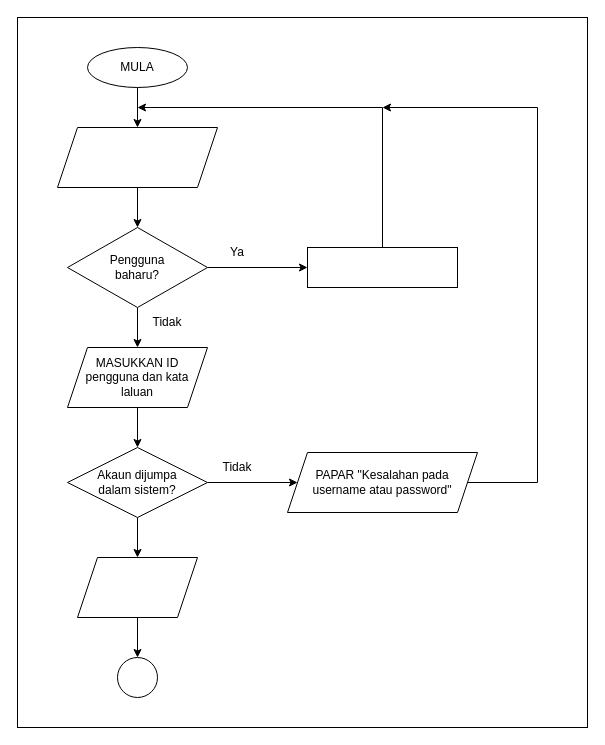
Some shapes in this 605 by 745 pixel diagram are drawn without their labels. Here are the shapes that lost their labels. From the top down, the centre of each, then its label:
the point at 137,157: PAPAR Skrin untuk log masuk pengguna
the point at 382,267: Daftar pengguna baharu
the point at 137,587: PAPAR "Anda telah log masuk"
